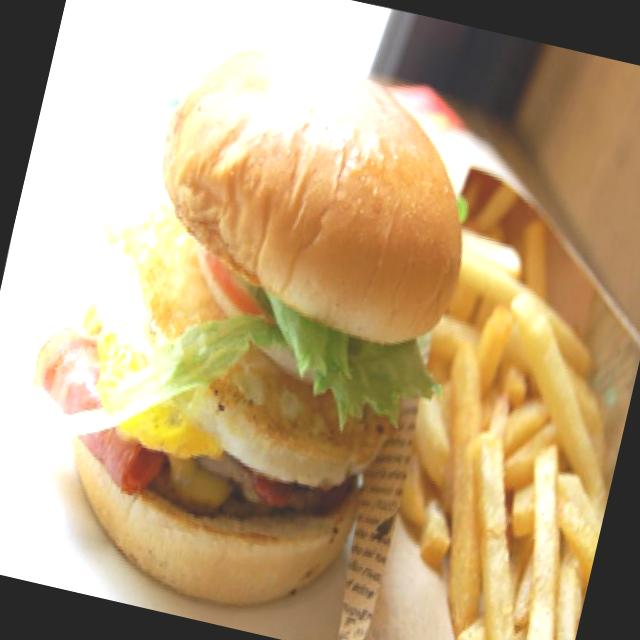French Fries: (359, 228, 640, 640)
Hamburger: (0, 0, 514, 640)
